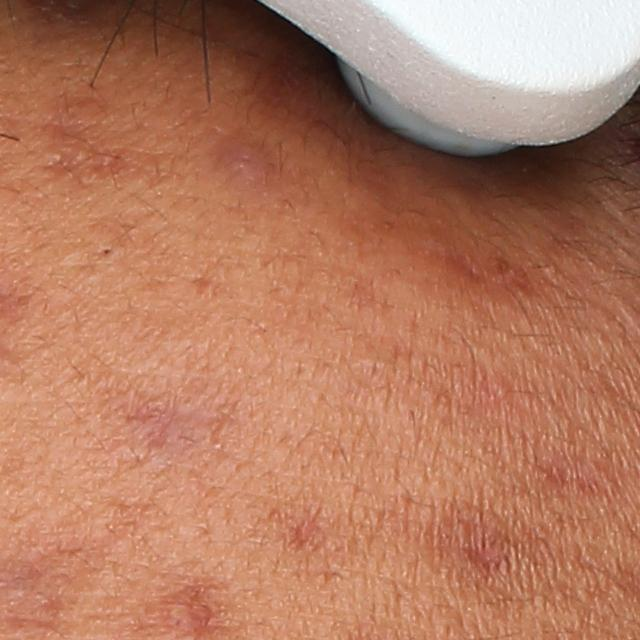comedo: (98, 244, 121, 258)
